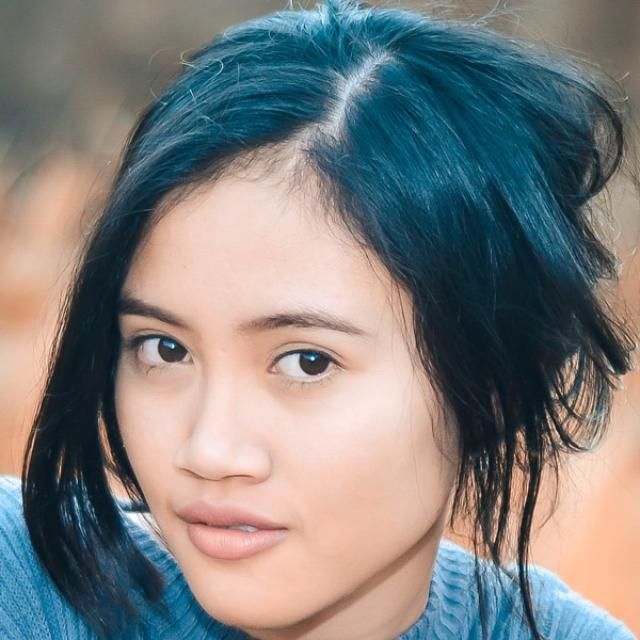face: (80, 145, 524, 635)
